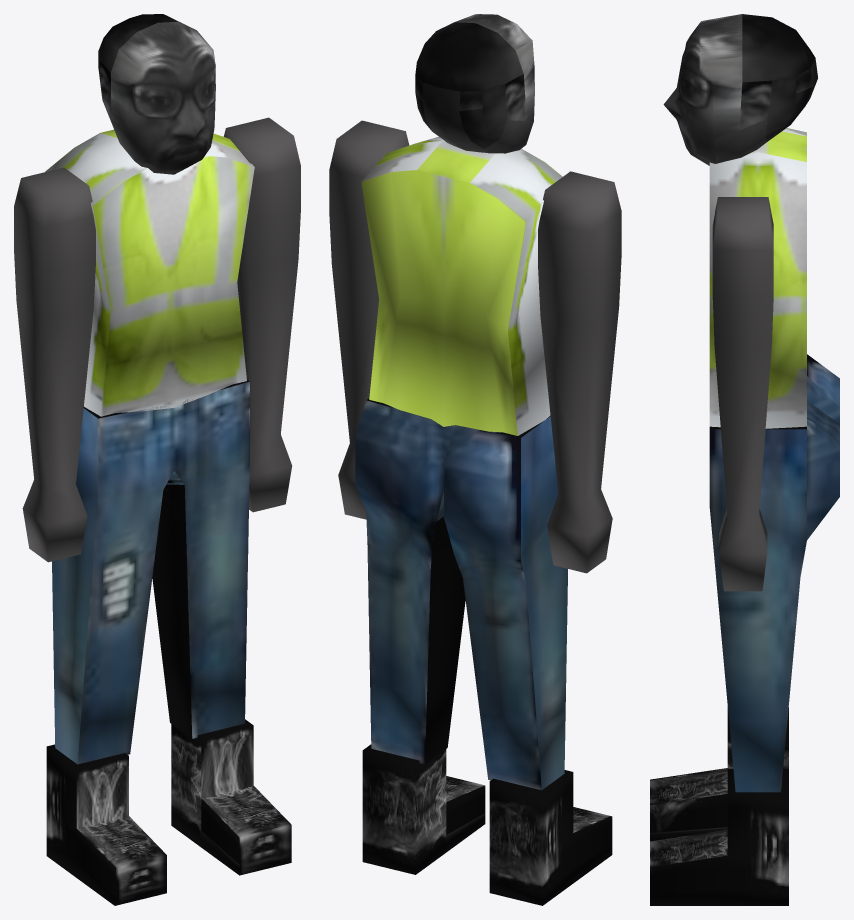
Rendered from VictorChar.fbx.
3 views of the same model, side by side, from view 1: azimuth 30°, elevation 25°; view 2: azimuth 150°, elevation 25°; view 3: azimuth 270°, elevation 25° (orthographic).
Parts seen in each view (by area): view 1: Landon; view 2: Landon; view 3: Landon.
Part boxes in pixels (box(x1,y1,x2,y2)): Landon: box(14, 14, 300, 905); Landon: box(329, 14, 621, 905); Landon: box(650, 14, 839, 905).
Bounding box in the file's own units: 228 × 702 × 143.
